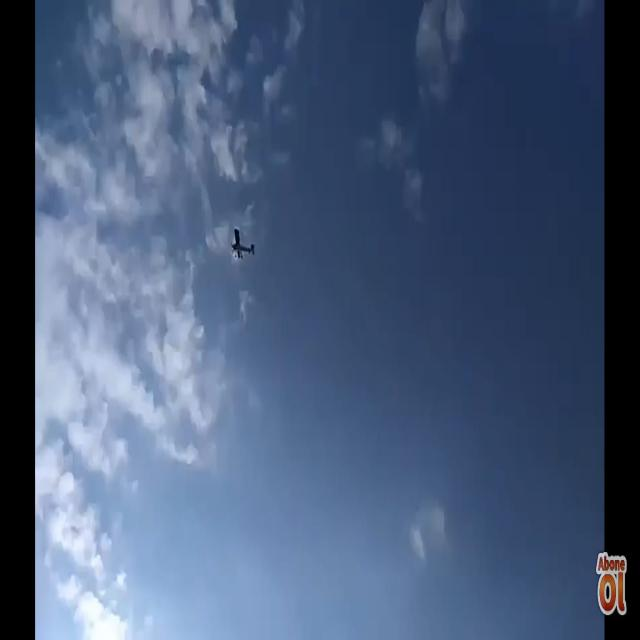iha: (230, 228, 255, 261)
